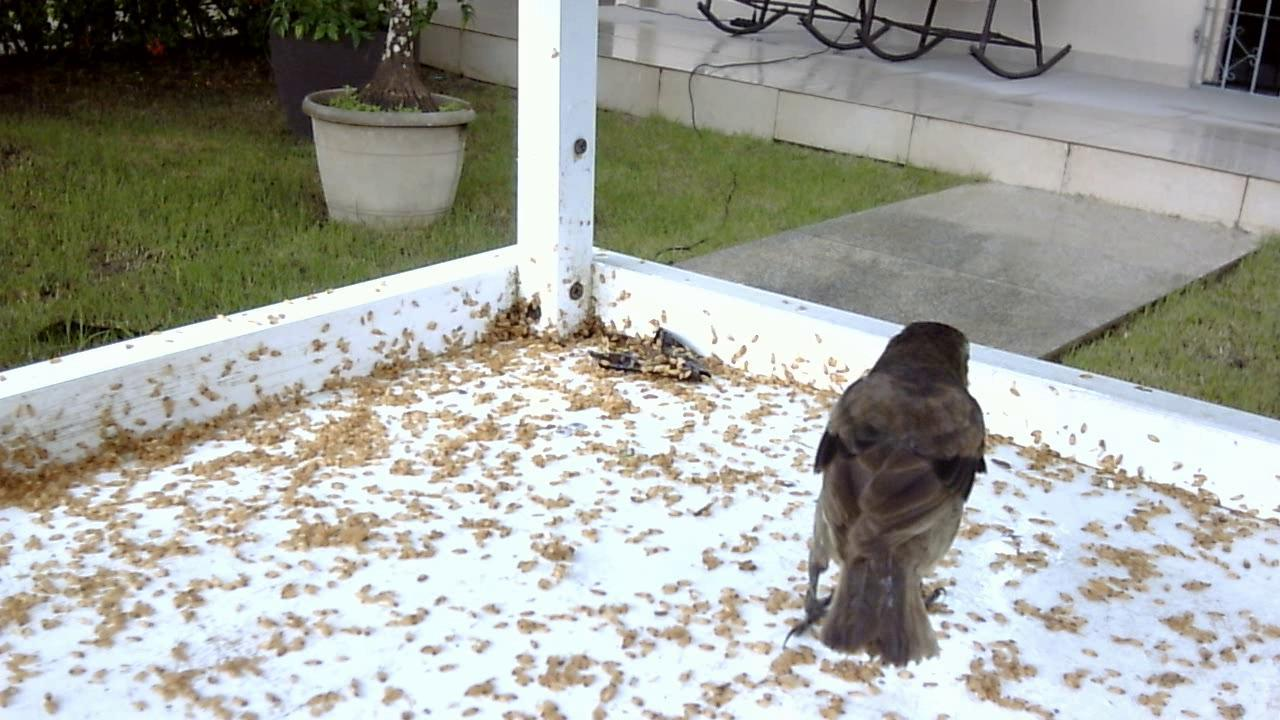chupim: (777, 302, 1000, 677)
